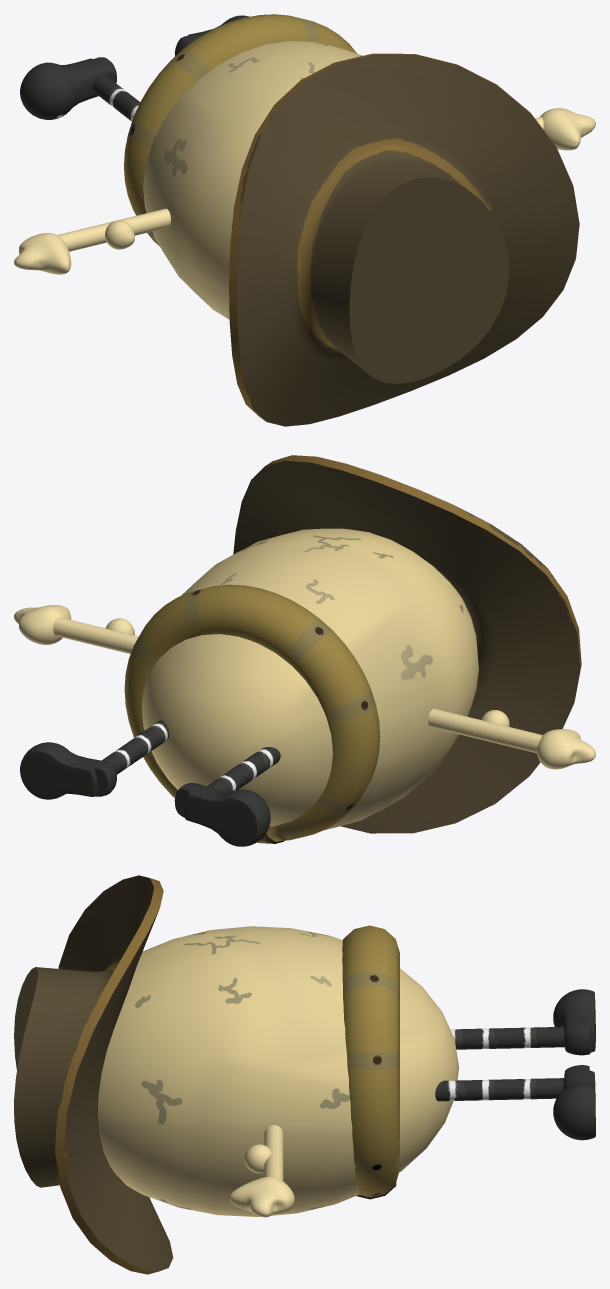
3 renders of one model, top to bottom at view 1: azimuth 30°, elevation 25°; view 2: azimuth 150°, elevation 25°; view 3: azimuth 270°, elevation 25°, orthographic.
Visible parts, largest first — view 1: Circle, Sphere, Torus, Cylinder.003, Cylinder.002; view 2: Sphere, Circle, Torus, Cylinder.002, Cylinder.003; view 3: Sphere, Circle, Torus, Cylinder.002, Cylinder.003.
Boxes of the visible parts, x1=… form: Circle: x1=229, y1=53, x2=579, y2=426; Sphere: x1=143, y1=41, x2=362, y2=319; Torus: x1=124, y1=14, x2=356, y2=245; Cylinder.003: x1=14, y1=108, x2=595, y2=274; Cylinder.002: x1=20, y1=15, x2=249, y2=121; Sphere: x1=142, y1=528, x2=478, y2=830; Circle: x1=233, y1=455, x2=581, y2=833; Torus: x1=124, y1=584, x2=380, y2=843; Cylinder.002: x1=20, y1=720, x2=280, y2=846; Cylinder.003: x1=14, y1=605, x2=595, y2=769; Sphere: x1=97, y1=926, x2=458, y2=1216; Circle: x1=14, y1=875, x2=173, y2=1274; Torus: x1=342, y1=925, x2=399, y2=1199; Cylinder.002: x1=435, y1=989, x2=595, y2=1140; Cylinder.003: x1=229, y1=1125, x2=294, y2=1217.
Bounding box in the file's own units: 1.53 × 0.9008 × 1.33.
6 materials, 5 textured.
